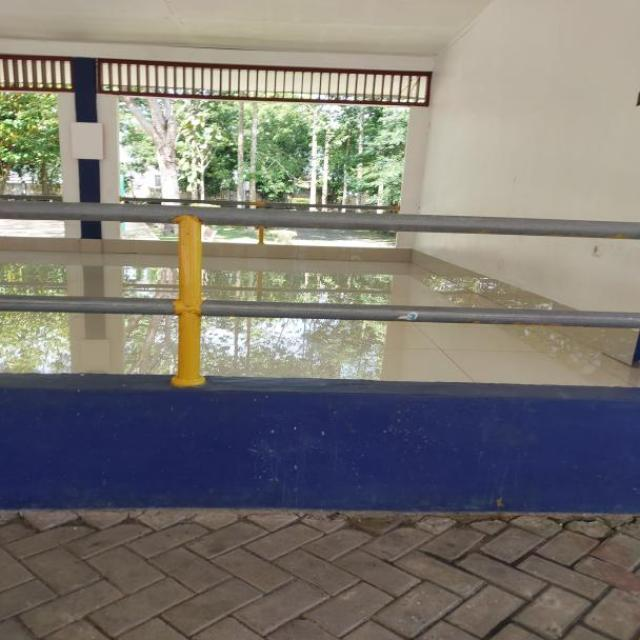barrier ahead at: (4, 202, 640, 520)
